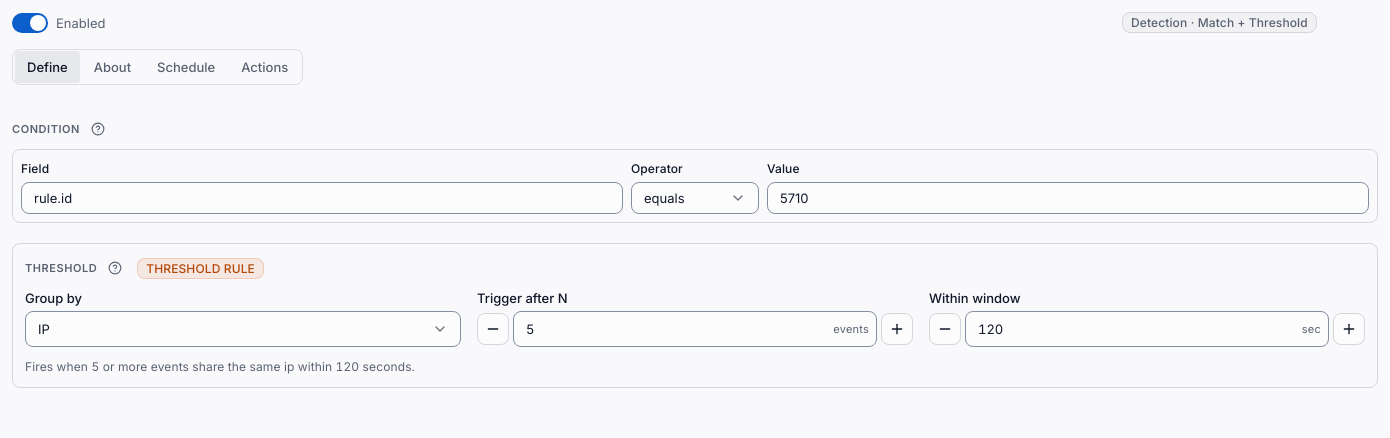
RuleEditor — config-writer behaviour › offers only persisted, executable detection controls in the normal editor
Click the tab "About" at (112, 67), box [82, 51, 143, 83]
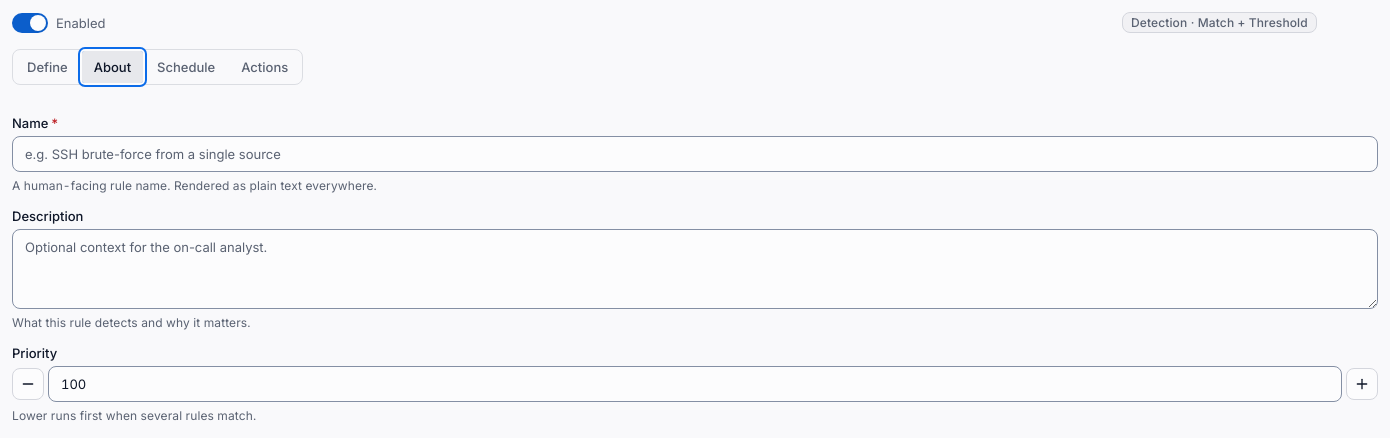
Click the tab "Schedule" at (186, 67), box [145, 51, 227, 83]
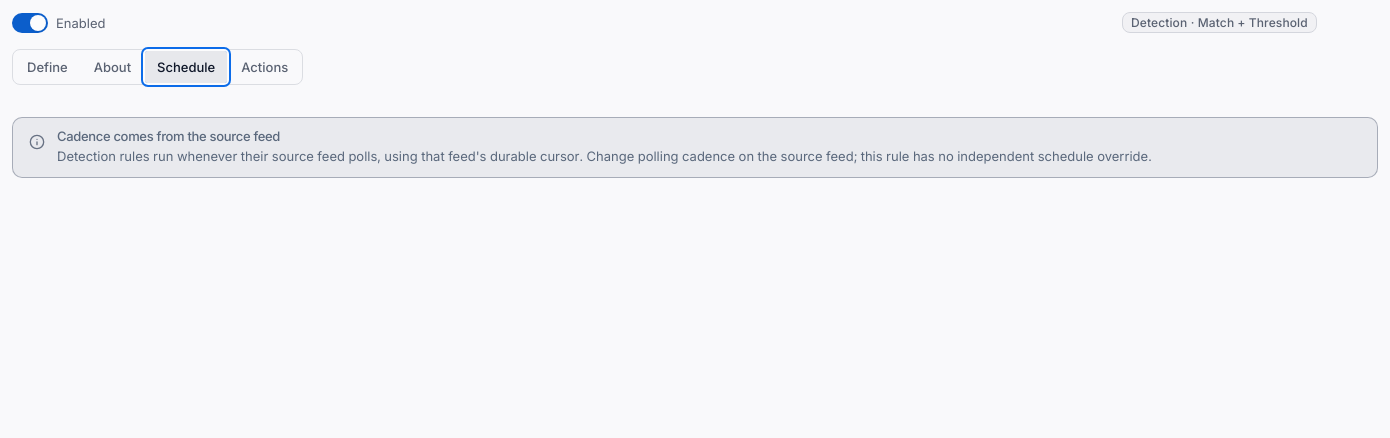
Expected: the heading "Cadence comes from the source feed" is shown, [57, 128, 280, 144]
